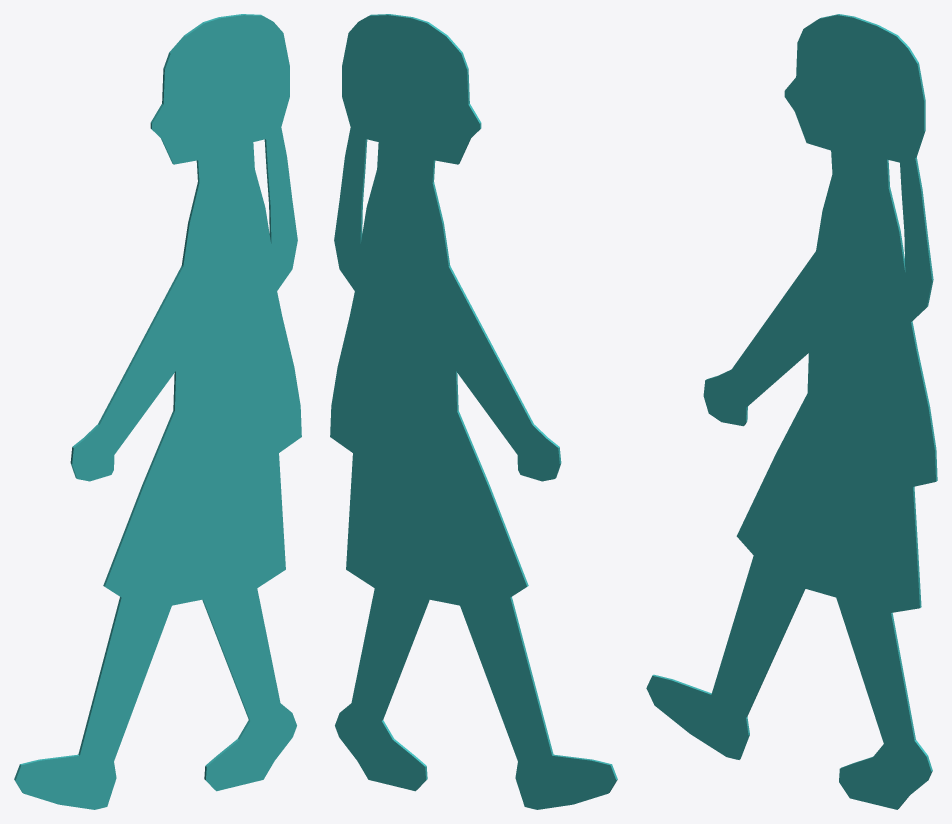
File: girl_moving.fbx
3 views of the same model, side by side, from view 1: azimuth 30°, elevation 25°; view 2: azimuth 150°, elevation 25°; view 3: azimuth 330°, elevation 25° (orthographic).
Parts seen in each view (by area): view 1: girl_moving1; view 2: girl_moving1; view 3: girl_moving1.
Part boxes in pixels (x1,y1,x2,y2): girl_moving1: (14,14,301,809); girl_moving1: (330,14,617,809); girl_moving1: (646,14,937,809).
Size of the model in its own units: 11.56 by 29.8 by 0.1063.
